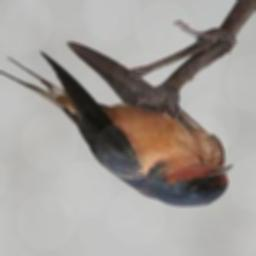Swallow: (0, 43, 236, 209)
